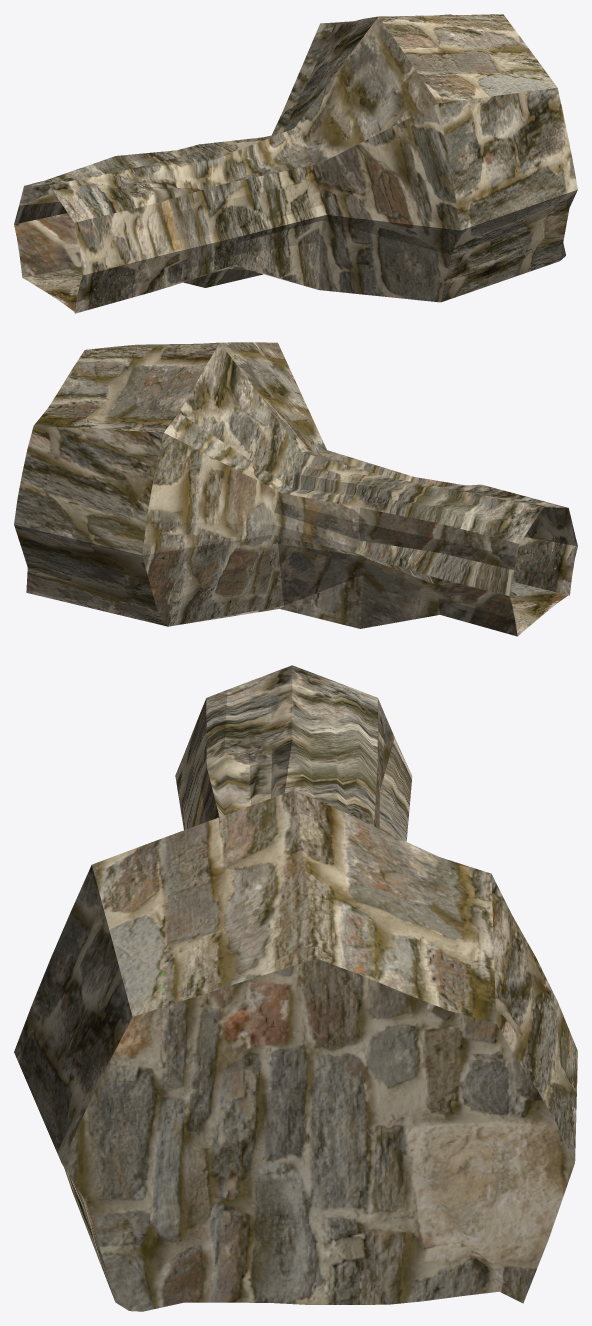
The model's file is Tunnel_End.fbx.
3 views of the same model, one above another, from view 1: azimuth 30°, elevation 25°; view 2: azimuth 150°, elevation 25°; view 3: azimuth 270°, elevation 25° (orthographic). The views are drawn at different scales.
Parts seen in each view (by area): view 1: Cylinder.004; view 2: Cylinder.004; view 3: Cylinder.004.
Part boxes in pixels (left/top/right/bottom): Cylinder.004: left=14, top=14, right=577, bottom=313; Cylinder.004: left=14, top=342, right=577, bottom=636; Cylinder.004: left=14, top=665, right=577, bottom=1311.
Bounding box in the file's own units: 3171 × 1532 × 1932.
